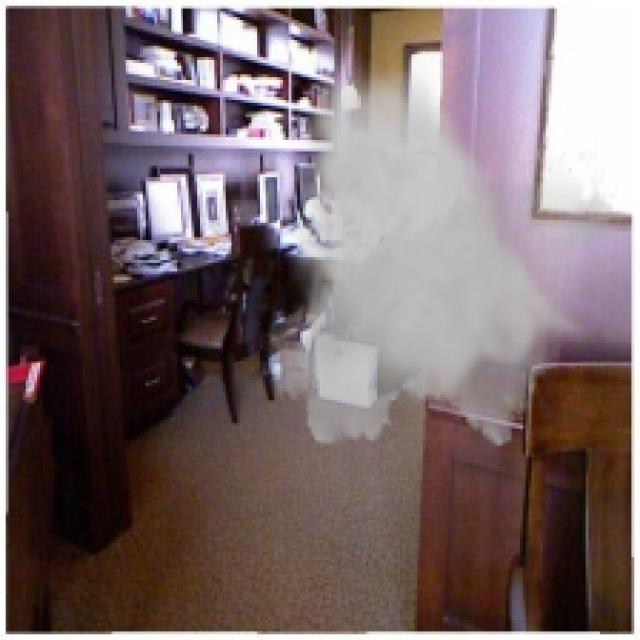smoke: (260, 49, 626, 457)
